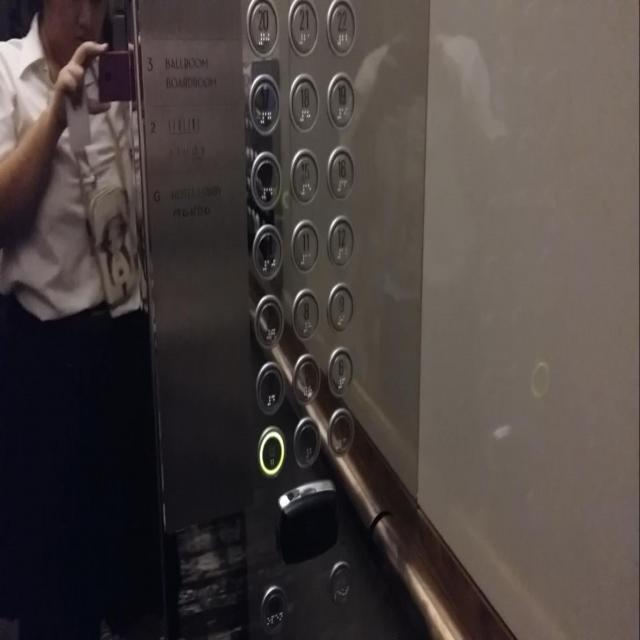11: (290, 217, 320, 275)
12: (326, 212, 354, 268)
15: (288, 144, 321, 206)
16: (324, 144, 357, 202)
17: (248, 73, 280, 134)
18: (288, 72, 320, 133)
19: (325, 70, 357, 132)
20: (246, 0, 279, 58)
21: (287, 0, 320, 57)
22: (324, 0, 357, 56)
5: (291, 352, 320, 408)
6: (326, 344, 354, 396)
8: (290, 286, 320, 341)
9: (325, 279, 355, 334)
G: (258, 423, 286, 475)
blur: (249, 149, 282, 211), (252, 222, 282, 280), (254, 292, 283, 348), (291, 414, 321, 468), (255, 360, 284, 415), (325, 405, 355, 457), (259, 583, 288, 635), (327, 558, 354, 604)
